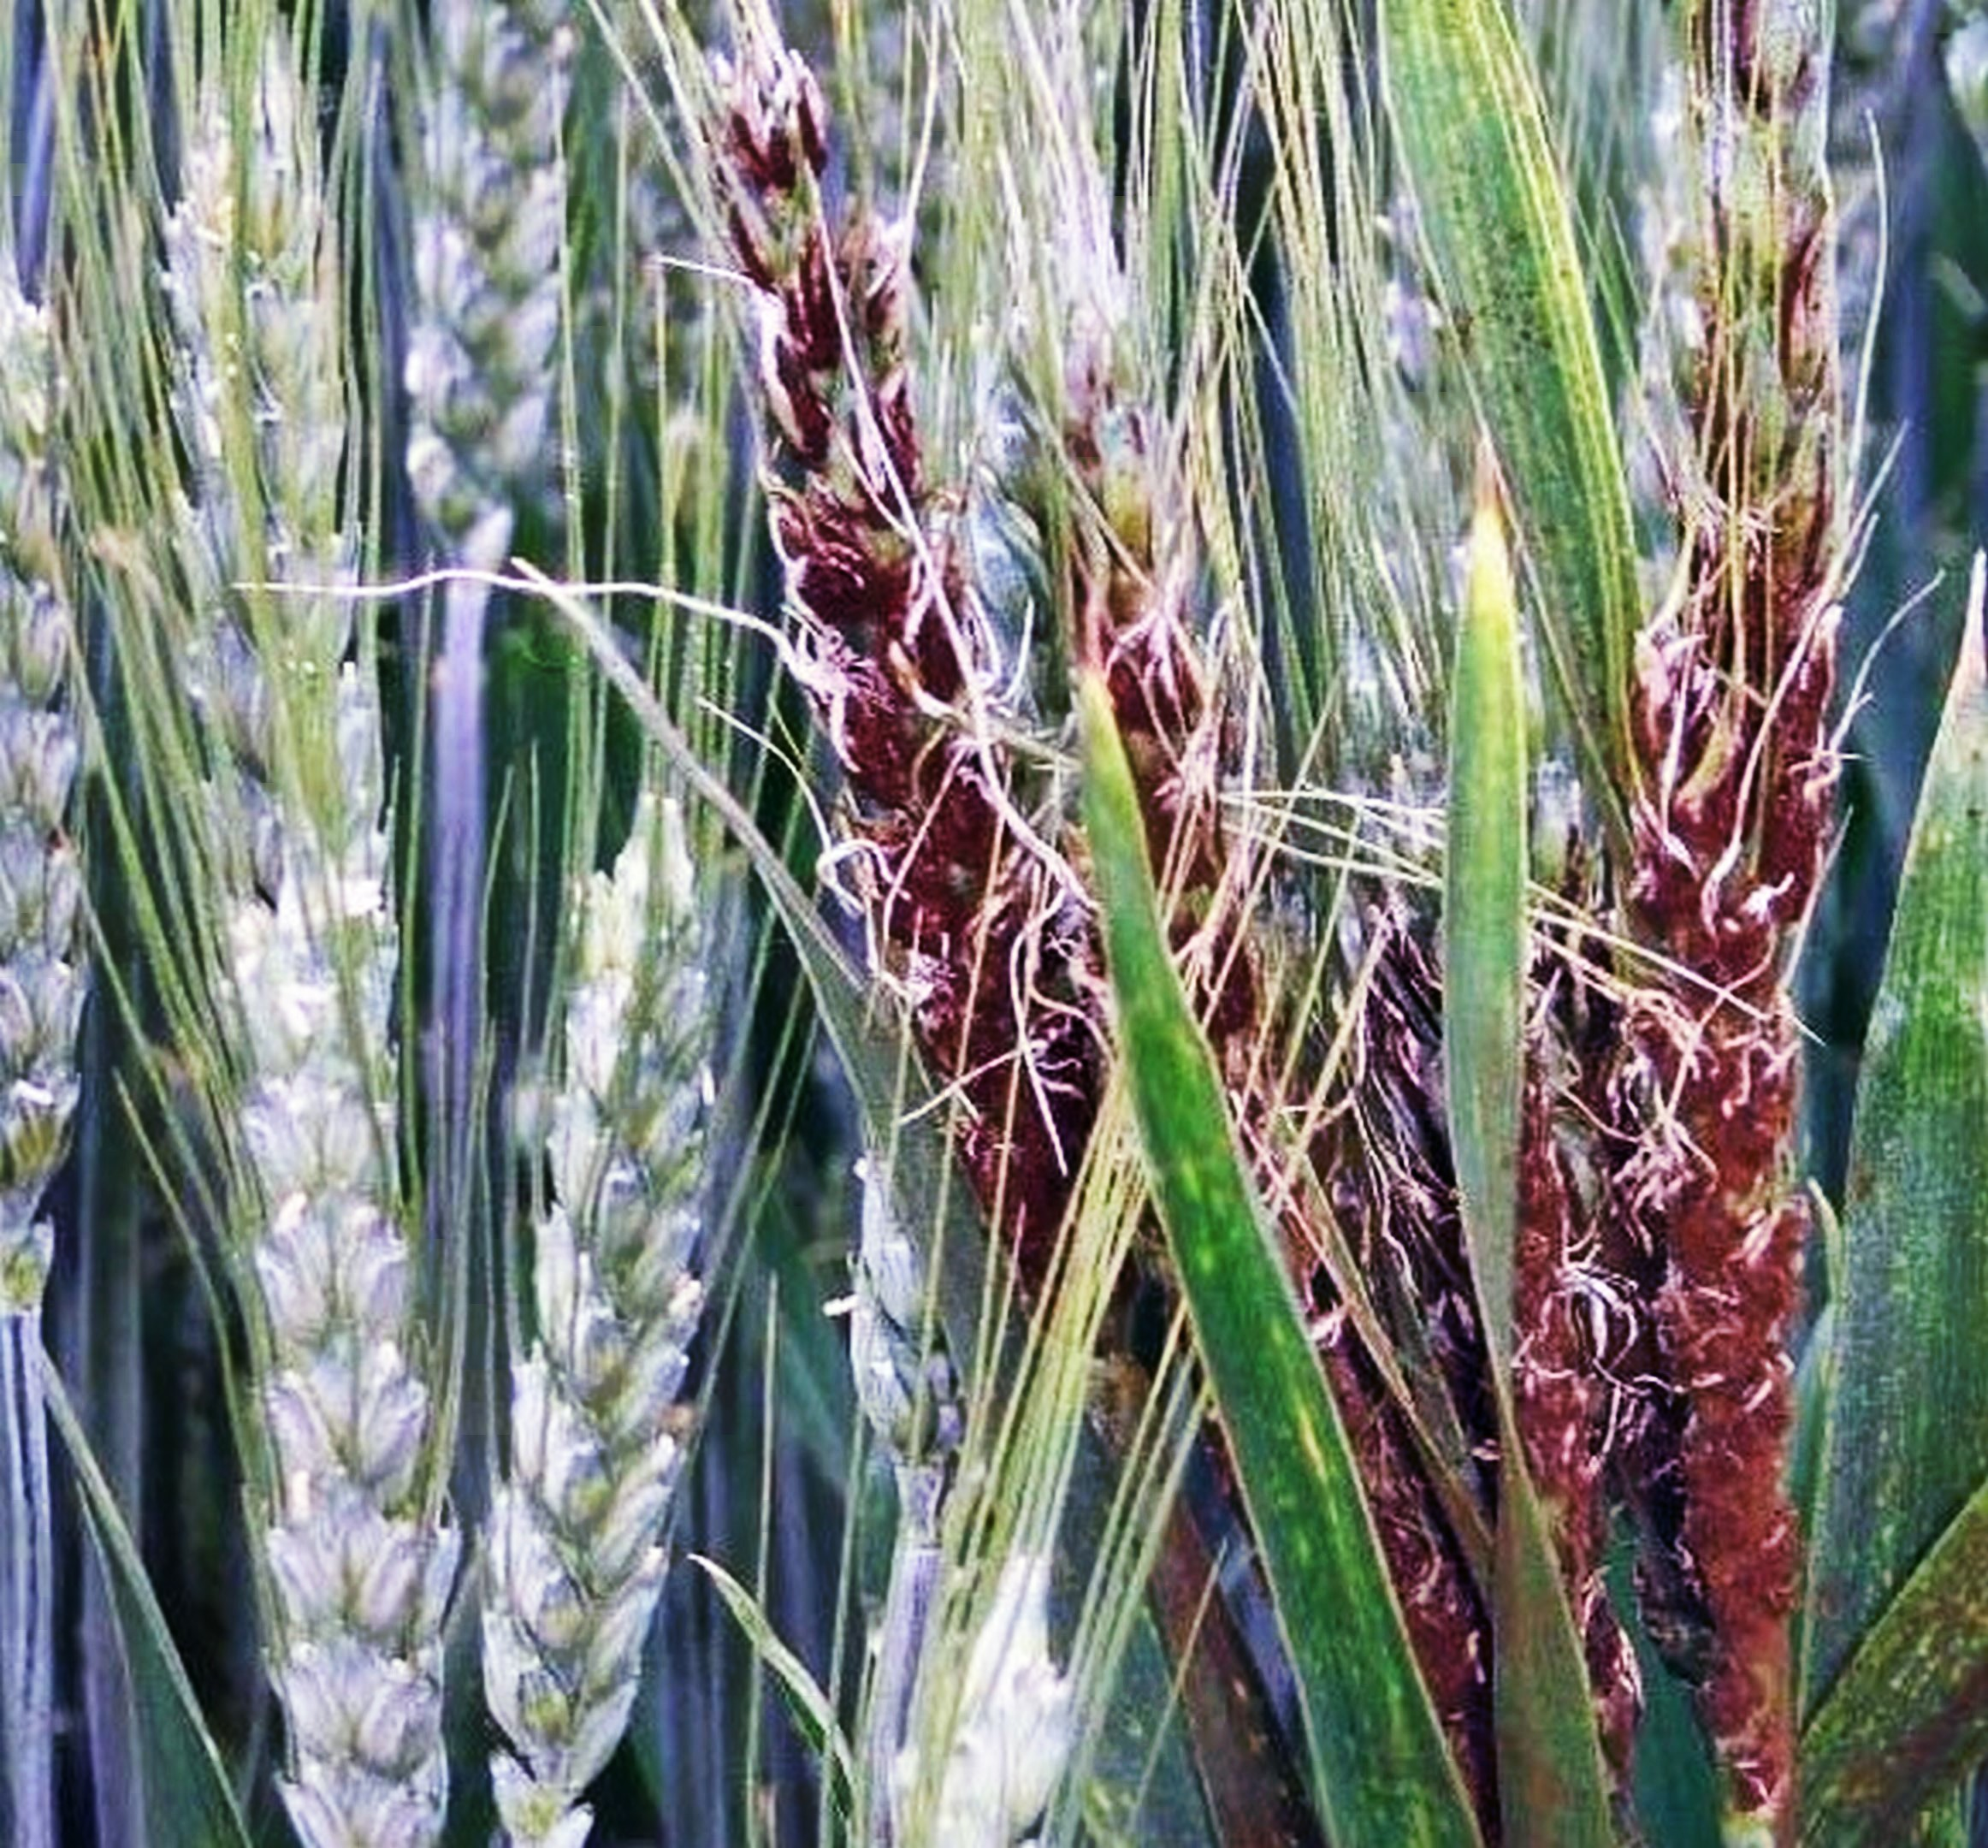Wheat Loose Smut: (719, 273, 1287, 1228), (1346, 651, 1861, 1671)
